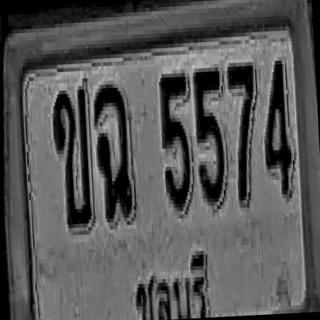A02: (51, 85, 94, 228)
A09: (92, 82, 136, 221)
N04: (261, 58, 294, 197)
N05: (158, 70, 193, 212), (193, 66, 227, 204)
N07: (226, 58, 261, 204)
P13: (130, 243, 210, 320)
